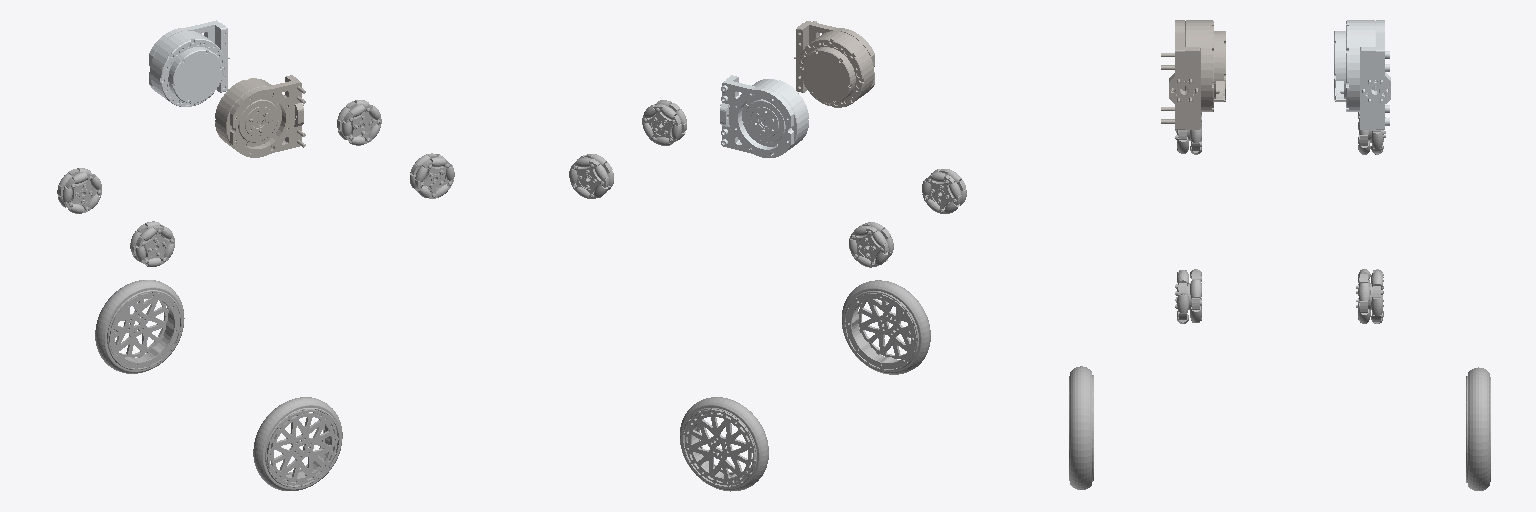
URDF robot description (practice3_description3):
<?xml version="1.0" encoding="utf-8"?>
<!-- This URDF was automatically created by SolidWorks to URDF Exporter! Originally created by [author] ([email redacted]) 
     Commit Version: 1.6.0-4-g7f85cfe  Build Version: 1.6.7995.38578
     For more information, please see http://wiki.ros.org/sw_urdf_exporter -->
<robot
  name="practice3_description3">
  <link
    name="base_link">
    <inertial>
      <origin
        xyz="-0.0195329353994009 -0.000496331837651917 0.0240278644637977"
        rpy="0 0 0" />
      <mass
        value="7.86549679346302" />
      <inertia
        ixx="0.013883640423231"
        ixy="-0.000109665710226596"
        ixz="1.2389201822286E-05"
        iyy="0.0118579650228345"
        iyz="2.30416407311523E-07"
        izz="0.0171396691769903" />
    </inertial>
    <visual>
      <origin
        xyz="0 0 0"
        rpy="0 0 0" />
      <geometry>
        <mesh
          filename="package://practice3_description3/meshes/base_link.STL" />
      </geometry>
      <material
        name="">
        <color
          rgba="0.298039215686275 0.298039215686275 0.298039215686275 1" />
      </material>
    </visual>
    <collision>
      <origin
        xyz="0 0 0"
        rpy="0 0 0" />
      <geometry>
        <mesh
          filename="package://practice3_description3/meshes/base_link.STL" />
      </geometry>
    </collision>
  </link>
  <link
    name="left_hip_link_1">
    <inertial>
      <origin
        xyz="0.0117376958449734 -0.00870423692569258 2.26941382359402E-05"
        rpy="0 0 0" />
      <mass
        value="0.400563744047032" />
      <inertia
        ixx="0.000296564794093282"
        ixy="-8.0099349339225E-08"
        ixz="-2.8464528541136E-07"
        iyy="0.000516698382063801"
        iyz="-2.24974777183501E-08"
        izz="0.000267243803257602" />
    </inertial>
    <visual>
      <origin
        xyz="0 0 0"
        rpy="0 0 0" />
      <geometry>
        <mesh
          filename="package://practice3_description3/meshes/left_hip_link_1.STL" />
      </geometry>
      <material
        name="">
        <color
          rgba="0.898039215686275 0.917647058823529 0.929411764705882 1" />
      </material>
    </visual>
    <collision>
      <origin
        xyz="0 0 0"
        rpy="0 0 0" />
      <geometry>
        <mesh
          filename="package://practice3_description3/meshes/left_hip_link_1.STL" />
      </geometry>
    </collision>
  </link>
  <joint
    name="left_hip_joint_1"
    type="revolute">
    <origin
      xyz="-0.0644999999999995 0.100000000000002 0.0610000000000005"
      rpy="0 0 0" />
    <parent
      link="base_link" />
    <child
      link="left_hip_link_1" />
    <axis
      xyz="-1 0 0" />
    <limit
      lower="0"
      upper="0"
      effort="0"
      velocity="0" />
  </joint>
  <link
    name="left_hip_link_2">
    <inertial>
      <origin
        xyz="-0.00234340312157838 -0.0164403871088711 -0.0315246767727397"
        rpy="0 0 0" />
      <mass
        value="0.958438524624985" />
      <inertia
        ixx="0.00177180470534738"
        ixy="4.54831101553148E-07"
        ixz="-3.38215173675068E-06"
        iyy="0.00216397459243263"
        iyz="-3.1067819039064E-06"
        izz="0.00045327885005257" />
    </inertial>
    <visual>
      <origin
        xyz="0 0 0"
        rpy="0 0 0" />
      <geometry>
        <mesh
          filename="package://practice3_description3/meshes/left_hip_link_2.STL" />
      </geometry>
      <material
        name="">
        <color
          rgba="0.898039215686275 0.917647058823529 0.929411764705882 1" />
      </material>
    </visual>
    <collision>
      <origin
        xyz="0 0 0"
        rpy="0 0 0" />
      <geometry>
        <mesh
          filename="package://practice3_description3/meshes/left_hip_link_2.STL" />
      </geometry>
    </collision>
  </link>
  <joint
    name="left_hip_joint_2"
    type="revolute">
    <origin
      xyz="0 0.075 0"
      rpy="0 0 0" />
    <parent
      link="left_hip_link_1" />
    <child
      link="left_hip_link_2" />
    <axis
      xyz="0 1 0" />
    <limit
      lower="0"
      upper="0"
      effort="0"
      velocity="0" />
  </joint>
  <link
    name="left_knee_link">
    <inertial>
      <origin
        xyz="0.00100749878760042 0.00320594335839727 -0.122955227606273"
        rpy="0 0 0" />
      <mass
        value="0.343804834340664" />
      <inertia
        ixx="0.0009680733895411"
        ixy="8.59857145931724E-07"
        ixz="1.62319934624865E-05"
        iyy="0.00106913143213422"
        iyz="-2.5272704073168E-06"
        izz="0.000118328955466622" />
    </inertial>
    <visual>
      <origin
        xyz="0 0 0"
        rpy="0 0 0" />
      <geometry>
        <mesh
          filename="package://practice3_description3/meshes/left_knee_link.STL" />
      </geometry>
      <material
        name="">
        <color
          rgba="1 1 1 1" />
      </material>
    </visual>
    <collision>
      <origin
        xyz="0 0 0"
        rpy="0 0 0" />
      <geometry>
        <mesh
          filename="package://practice3_description3/meshes/left_knee_link.STL" />
      </geometry>
    </collision>
  </link>
  <joint
    name="left_knee_joint"
    type="revolute">
    <origin
      xyz="0 0.0119999999999887 -0.199999999999978"
      rpy="0 0 0" />
    <parent
      link="left_hip_link_2" />
    <child
      link="left_knee_link" />
    <axis
      xyz="0 -1 0" />
    <limit
      lower="0"
      upper="0"
      effort="0"
      velocity="0" />
  </joint>
  <link
    name="left_wheel_link">
    <inertial>
      <origin
        xyz="-5.96744875736022E-16 -0.0116892741471749 -6.10622663543836E-16"
        rpy="0 0 0" />
      <mass
        value="0.200265566620532" />
      <inertia
        ixx="0.000286199112326821"
        ixy="2.13323806709147E-19"
        ixz="1.1686174960693E-19"
        iyy="0.000564539670034219"
        iyz="-5.77054488400272E-20"
        izz="0.000286199112326822" />
    </inertial>
    <visual>
      <origin
        xyz="0 0 0"
        rpy="0 0 0" />
      <geometry>
        <mesh
          filename="package://practice3_description3/meshes/left_wheel_link.STL" />
      </geometry>
      <material
        name="">
        <color
          rgba="0.752941176470588 0.752941176470588 0.752941176470588 1" />
      </material>
    </visual>
    <collision>
      <origin
        xyz="0 0 0"
        rpy="0 0 0" />
      <geometry>
        <mesh
          filename="package://practice3_description3/meshes/left_wheel_link.STL" />
      </geometry>
    </collision>
  </link>
  <joint
    name="left_wheel_joint"
    type="revolute">
    <origin
      xyz="0 0.033499999996687 -0.220000000000025"
      rpy="0 0 0" />
    <parent
      link="left_knee_link" />
    <child
      link="left_wheel_link" />
    <axis
      xyz="0 -1 0" />
    <limit
      lower="0"
      upper="0"
      effort="0"
      velocity="0" />
  </joint>
  <link
    name="right_hip_link_1">
    <inertial>
      <origin
        xyz="0.0117071177718721 0.0086729983860024 5.60256660359568E-05"
        rpy="0 0 0" />
      <mass
        value="0.400831423275681" />
      <inertia
        ixx="0.000296630955175783"
        ixy="6.09216707264634E-08"
        ixz="-2.70117600521649E-07"
        iyy="0.000516698271333235"
        iyz="1.80396129326948E-08"
        izz="0.000267280909053108" />
    </inertial>
    <visual>
      <origin
        xyz="0 0 0"
        rpy="0 0 0" />
      <geometry>
        <mesh
          filename="package://practice3_description3/meshes/right_hip_link_1.STL" />
      </geometry>
      <material
        name="">
        <color
          rgba="0.776470588235294 0.756862745098039 0.737254901960784 1" />
      </material>
    </visual>
    <collision>
      <origin
        xyz="0 0 0"
        rpy="0 0 0" />
      <geometry>
        <mesh
          filename="package://practice3_description3/meshes/right_hip_link_1.STL" />
      </geometry>
    </collision>
  </link>
  <joint
    name="right_hip_joint_1"
    type="revolute">
    <origin
      xyz="-0.0645 -0.1 0.061"
      rpy="0 0 0" />
    <parent
      link="base_link" />
    <child
      link="right_hip_link_1" />
    <axis
      xyz="-1 0 0" />
    <limit
      lower="0"
      upper="0"
      effort="0"
      velocity="0" />
  </joint>
  <link
    name="right_hip_link_2">
    <inertial>
      <origin
        xyz="-0.00230186901195818 0.0164649838667023 -0.0314603090383583"
        rpy="0 0 0" />
      <mass
        value="0.959167374243142" />
      <inertia
        ixx="0.00177181798362476"
        ixy="-4.32272582066725E-07"
        ixz="-3.57215131064007E-06"
        iyy="0.00216397675694541"
        iyz="3.11083050731369E-06"
        izz="0.00045342752905043" />
    </inertial>
    <visual>
      <origin
        xyz="0 0 0"
        rpy="0 0 0" />
      <geometry>
        <mesh
          filename="package://practice3_description3/meshes/right_hip_link_2.STL" />
      </geometry>
      <material
        name="">
        <color
          rgba="1 1 1 1" />
      </material>
    </visual>
    <collision>
      <origin
        xyz="0 0 0"
        rpy="0 0 0" />
      <geometry>
        <mesh
          filename="package://practice3_description3/meshes/right_hip_link_2.STL" />
      </geometry>
    </collision>
  </link>
  <joint
    name="right_hip_joint_2"
    type="revolute">
    <origin
      xyz="0 -0.0754999866485594 0"
      rpy="0 0 0" />
    <parent
      link="right_hip_link_1" />
    <child
      link="right_hip_link_2" />
    <axis
      xyz="0 1 0" />
    <limit
      lower="0"
      upper="0"
      effort="0"
      velocity="0" />
  </joint>
  <link
    name="right_knee_link">
    <inertial>
      <origin
        xyz="-0.000670704798506311 -0.00320599592348425 -0.122916457432027"
        rpy="0 0 0" />
      <mass
        value="0.343804821811991" />
      <inertia
        ixx="0.000968361528709611"
        ixy="-6.62397973544462E-07"
        ixz="5.72178987034178E-06"
        iyy="0.00106913279142958"
        iyz="2.49170318197005E-06"
        izz="0.000118042174527439" />
    </inertial>
    <visual>
      <origin
        xyz="0 0 0"
        rpy="0 0 0" />
      <geometry>
        <mesh
          filename="package://practice3_description3/meshes/right_knee_link.STL" />
      </geometry>
      <material
        name="">
        <color
          rgba="1 1 1 1" />
      </material>
    </visual>
    <collision>
      <origin
        xyz="0 0 0"
        rpy="0 0 0" />
      <geometry>
        <mesh
          filename="package://practice3_description3/meshes/right_knee_link.STL" />
      </geometry>
    </collision>
  </link>
  <joint
    name="right_knee_joint"
    type="revolute">
    <origin
      xyz="0 -0.0119999999999755 -0.200000000000065"
      rpy="0 0 0" />
    <parent
      link="right_hip_link_2" />
    <child
      link="right_knee_link" />
    <axis
      xyz="0 1 0" />
    <limit
      lower="0"
      upper="0"
      effort="0"
      velocity="0" />
  </joint>
  <link
    name="right_wheel_link">
    <inertial>
      <origin
        xyz="2.4980018054066E-16 0.0116892741471749 -1.0547118733939E-15"
        rpy="0 0 0" />
      <mass
        value="0.200265566620532" />
      <inertia
        ixx="0.000286199112326822"
        ixy="7.59305944813167E-20"
        ixz="9.18937786002227E-21"
        iyy="0.000564539670034219"
        iyz="-7.60548548095721E-20"
        izz="0.000286199112326822" />
    </inertial>
    <visual>
      <origin
        xyz="0 0 0"
        rpy="0 0 0" />
      <geometry>
        <mesh
          filename="package://practice3_description3/meshes/right_wheel_link.STL" />
      </geometry>
      <material
        name="">
        <color
          rgba="0.752941176470588 0.752941176470588 0.752941176470588 1" />
      </material>
    </visual>
    <collision>
      <origin
        xyz="0 0 0"
        rpy="0 0 0" />
      <geometry>
        <mesh
          filename="package://practice3_description3/meshes/right_wheel_link.STL" />
      </geometry>
    </collision>
  </link>
  <joint
    name="right_wheel_joint"
    type="revolute">
    <origin
      xyz="-0.0027267914657448 -0.0334999999967166 -0.219983100733448"
      rpy="0 0 0" />
    <parent
      link="right_knee_link" />
    <child
      link="right_wheel_link" />
    <axis
      xyz="0 1 0" />
    <limit
      lower="0"
      upper="0"
      effort="0"
      velocity="0" />
  </joint>
  <link
    name="lf_guidewheel_link">
    <inertial>
      <origin
        xyz="-3.81799869497712E-11 -0.0202720140453712 -1.38603697963369E-10"
        rpy="0 0 0" />
      <mass
        value="0.0909509467491148" />
      <inertia
        ixx="8.39441481509992E-06"
        ixy="3.29272737679941E-15"
        ixz="3.36933497866764E-16"
        iyy="1.503586387806E-05"
        iyz="1.03458343376473E-14"
        izz="8.39441493636592E-06" />
    </inertial>
    <visual>
      <origin
        xyz="0 0 0"
        rpy="0 0 0" />
      <geometry>
        <mesh
          filename="package://practice3_description3/meshes/lf_guidewheel_link.STL" />
      </geometry>
      <material
        name="">
        <color
          rgba="0.752941176470588 0.752941176470588 0.752941176470588 1" />
      </material>
    </visual>
    <collision>
      <origin
        xyz="0 0 0"
        rpy="0 0 0" />
      <geometry>
        <mesh
          filename="package://practice3_description3/meshes/lf_guidewheel_link.STL" />
      </geometry>
    </collision>
  </link>
  <joint
    name="lf_guidewheel_joint"
    type="revolute">
    <origin
      xyz="0.2 0.115 -0.082"
      rpy="0 0 0" />
    <parent
      link="base_link" />
    <child
      link="lf_guidewheel_link" />
    <axis
      xyz="0 -1 0" />
    <limit
      lower="0"
      upper="0"
      effort="0"
      velocity="0" />
  </joint>
  <link
    name="lb_guidewheel_link">
    <inertial>
      <origin
        xyz="2.10308714887475E-11 -0.0197279859545276 -1.41607406356492E-10"
        rpy="0 0 0" />
      <mass
        value="0.0909509467491148" />
      <inertia
        ixx="8.39441480498492E-06"
        ixy="1.92286532542712E-15"
        ixz="-1.12608794026895E-14"
        iyy="1.5035863881634E-05"
        iyz="-1.06855482135735E-14"
        izz="8.39441495005498E-06" />
    </inertial>
    <visual>
      <origin
        xyz="0 0 0"
        rpy="0 0 0" />
      <geometry>
        <mesh
          filename="package://practice3_description3/meshes/lb_guidewheel_link.STL" />
      </geometry>
      <material
        name="">
        <color
          rgba="0.752941176470588 0.752941176470588 0.752941176470588 1" />
      </material>
    </visual>
    <collision>
      <origin
        xyz="0 0 0"
        rpy="0 0 0" />
      <geometry>
        <mesh
          filename="package://practice3_description3/meshes/lb_guidewheel_link.STL" />
      </geometry>
    </collision>
  </link>
  <joint
    name="lb_guidewheel_joint"
    type="revolute">
    <origin
      xyz="-0.22 0.115 -0.082"
      rpy="0 0 0" />
    <parent
      link="base_link" />
    <child
      link="lb_guidewheel_link" />
    <axis
      xyz="0 1 0" />
    <limit
      lower="0"
      upper="0"
      effort="0"
      velocity="0" />
  </joint>
  <link
    name="rf_guidewheel_link">
    <inertial>
      <origin
        xyz="7.05567826386755E-11 0.0197279859545512 -1.28303548341258E-10"
        rpy="0 0 0" />
      <mass
        value="0.0909509467491148" />
      <inertia
        ixx="8.39441487768189E-06"
        ixy="-4.81052723738006E-15"
        ixz="-4.78214950325478E-14"
        iyy="1.50358638818131E-05"
        iyz="9.73330285941478E-15"
        izz="8.39441487753702E-06" />
    </inertial>
    <visual>
      <origin
        xyz="0 0 0"
        rpy="0 0 0" />
      <geometry>
        <mesh
          filename="package://practice3_description3/meshes/rf_guidewheel_link.STL" />
      </geometry>
      <material
        name="">
        <color
          rgba="0.752941176470588 0.752941176470588 0.752941176470588 1" />
      </material>
    </visual>
    <collision>
      <origin
        xyz="0 0 0"
        rpy="0 0 0" />
      <geometry>
        <mesh
          filename="package://practice3_description3/meshes/rf_guidewheel_link.STL" />
      </geometry>
    </collision>
  </link>
  <joint
    name="rf_guidewheel_joint"
    type="revolute">
    <origin
      xyz="0.2 -0.115 -0.082"
      rpy="0 0 0" />
    <parent
      link="base_link" />
    <child
      link="rf_guidewheel_link" />
    <axis
      xyz="0 -1 0" />
    <limit
      lower="0"
      upper="0"
      effort="0"
      velocity="0" />
  </joint>
  <link
    name="rb_guidewheel_link">
    <inertial>
      <origin
        xyz="-1.52366175232288E-11 0.0197279859546953 -1.42425612970065E-10"
        rpy="0 0 0" />
      <mass
        value="0.0909509467491149" />
      <inertia
        ixx="8.39441479936846E-06"
        ixy="1.46952134564036E-15"
        ixz="5.60638155803811E-15"
        iyy="1.50358638818585E-05"
        iyz="1.07572700879026E-14"
        izz="8.3944149558959E-06" />
    </inertial>
    <visual>
      <origin
        xyz="0 0 0"
        rpy="0 0 0" />
      <geometry>
        <mesh
          filename="package://practice3_description3/meshes/rb_guidewheel_link.STL" />
      </geometry>
      <material
        name="">
        <color
          rgba="0.752941176470588 0.752941176470588 0.752941176470588 1" />
      </material>
    </visual>
    <collision>
      <origin
        xyz="0 0 0"
        rpy="0 0 0" />
      <geometry>
        <mesh
          filename="package://practice3_description3/meshes/rb_guidewheel_link.STL" />
      </geometry>
    </collision>
  </link>
  <joint
    name="rb_guidewheel_joint"
    type="revolute">
    <origin
      xyz="-0.22 -0.115 -0.082"
      rpy="0 0 0" />
    <parent
      link="base_link" />
    <child
      link="rb_guidewheel_link" />
    <axis
      xyz="0 1 0" />
    <limit
      lower="0"
      upper="0"
      effort="0"
      velocity="0" />
  </joint>
  <link
    name="gimbal_yaw_link">
    <inertial>
      <origin
        xyz="-0.183745701154447 -0.102092895316961 0.191057885769961"
        rpy="0 0 0" />
      <mass
        value="4.91940842710393" />
      <inertia
        ixx="0.0199311349468997"
        ixy="-1.82646011920531E-06"
        ixz="5.59552862093738E-05"
        iyy="0.0200008424473267"
        iyz="-1.03478999393103E-06"
        izz="0.0348968178628033" />
    </inertial>
    <visual>
      <origin
        xyz="0 0 0"
        rpy="0 0 0" />
      <geometry>
        <mesh
          filename="package://practice3_description3/meshes/gimbal_yaw_link.STL" />
      </geometry>
      <material
        name="">
        <color
          rgba="0.780392156862745 0.76078431372549 0.741176470588235 1" />
      </material>
    </visual>
    <collision>
      <origin
        xyz="0 0 0"
        rpy="0 0 0" />
      <geometry>
        <mesh
          filename="package://practice3_description3/meshes/gimbal_yaw_link.STL" />
      </geometry>
    </collision>
  </link>
  <joint
    name="gimbal_yaw_joint"
    type="revolute">
    <origin
      xyz="0 0 0.121"
      rpy="0 0 0" />
    <parent
      link="base_link" />
    <child
      link="gimbal_yaw_link" />
    <axis
      xyz="0 0 1" />
    <limit
      lower="0"
      upper="0"
      effort="0"
      velocity="0" />
  </joint>
  <link
    name="gimbal_pitch_link">
    <inertial>
      <origin
        xyz="0.00870870710642013 0.00450855739546302 0.0159571123778878"
        rpy="0 0 0" />
      <mass
        value="1.64667908858472" />
      <inertia
        ixx="0.00169119928692589"
        ixy="-3.82884857408636E-05"
        ixz="1.36365648915649E-05"
        iyy="0.00181681212107164"
        iyz="3.84275590542992E-06"
        izz="0.00325400022306492" />
    </inertial>
    <visual>
      <origin
        xyz="0 0 0"
        rpy="0 0 0" />
      <geometry>
        <mesh
          filename="package://practice3_description3/meshes/gimbal_pitch_link.STL" />
      </geometry>
      <material
        name="">
        <color
          rgba="0.898039215686275 0.917647058823529 0.929411764705882 1" />
      </material>
    </visual>
    <collision>
      <origin
        xyz="0 0 0"
        rpy="0 0 0" />
      <geometry>
        <mesh
          filename="package://practice3_description3/meshes/gimbal_pitch_link.STL" />
      </geometry>
    </collision>
  </link>
  <joint
    name="gimbal_pitch_joint"
    type="revolute">
    <origin
      xyz="-0.0185014468518056 0 0.12"
      rpy="0 0 0" />
    <parent
      link="gimbal_yaw_link" />
    <child
      link="gimbal_pitch_link" />
    <axis
      xyz="-0.0125059211472692 0.999921797910346 0" />
    <limit
      lower="0"
      upper="0"
      effort="0"
      velocity="0" />
  </joint>
</robot>

--- Render facts (derived) ---
3 views of the same robot in one strip: view 1: azimuth 30°, elevation 25°; view 2: azimuth 150°, elevation 25°; view 3: azimuth 270°, elevation 25° (orthographic).
Robot: practice3_description3 — 15 links, 14 joints (14 revolute); root link base_link; default pose: all joints at 0.
Links seen in each view (by area): view 1: left_wheel_link, right_wheel_link, right_hip_link_1, left_hip_link_1, lb_guidewheel_link, lf_guidewheel_link, rf_guidewheel_link, rb_guidewheel_link; view 2: right_wheel_link, left_wheel_link, left_hip_link_1, right_hip_link_1, rf_guidewheel_link, lf_guidewheel_link, lb_guidewheel_link, rb_guidewheel_link; view 3: right_hip_link_1, left_hip_link_1, left_wheel_link, right_wheel_link, lf_guidewheel_link, rf_guidewheel_link, lb_guidewheel_link, rb_guidewheel_link.
Boxes of the visible links, x1,y1,x2,y2 form: left_wheel_link: (95,280,184,373); right_wheel_link: (253,397,342,490); right_hip_link_1: (215,75,305,157); left_hip_link_1: (149,20,229,106); lb_guidewheel_link: (57,168,101,213); lf_guidewheel_link: (337,100,381,145); rf_guidewheel_link: (410,153,454,198); rb_guidewheel_link: (130,221,174,266); right_wheel_link: (842,280,930,374); left_wheel_link: (680,397,768,491); left_hip_link_1: (720,75,808,157); right_hip_link_1: (794,21,874,107); rf_guidewheel_link: (642,100,686,145); lf_guidewheel_link: (569,154,613,198); lb_guidewheel_link: (849,222,893,267); rb_guidewheel_link: (922,169,966,213); right_hip_link_1: (1161,20,1225,129); left_hip_link_1: (1334,20,1390,129); left_wheel_link: (1466,367,1490,490); right_wheel_link: (1069,366,1093,489); lf_guidewheel_link: (1356,269,1383,323); rf_guidewheel_link: (1175,269,1201,323); lb_guidewheel_link: (1358,112,1385,154); rb_guidewheel_link: (1175,112,1201,154).
Bounding box of the posed robot: 0.4779 × 0.4415 × 0.5331 m (x, y, z).
Meshes: 15 distinct files referenced, 8 mesh visuals loaded (8 binary STL); not drawn: 7 (reference not matched to a file when rendering).